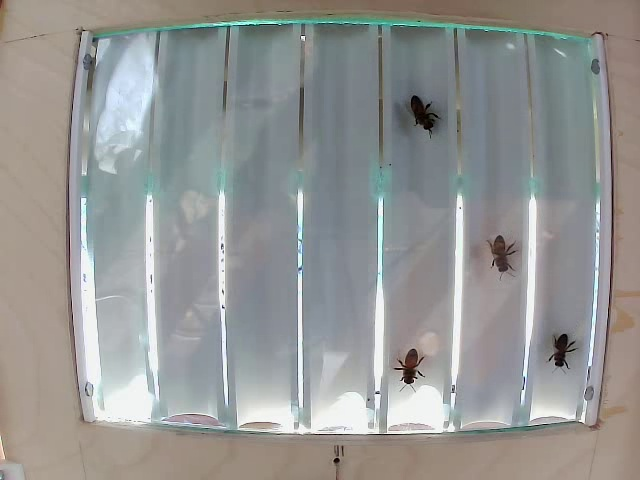bee: (407, 87, 446, 152), (402, 337, 432, 387), (483, 238, 509, 278), (550, 332, 573, 365)
